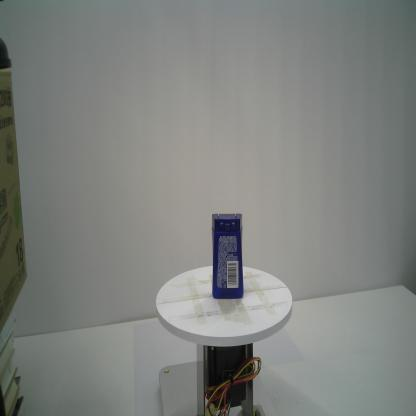Personal Hygiene: (211, 212, 245, 302)
